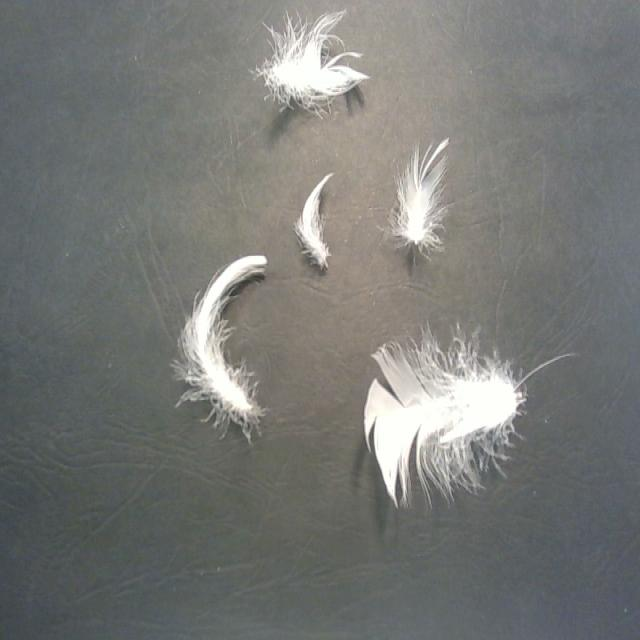feather: (359, 310, 543, 510), (170, 249, 271, 439), (250, 3, 367, 112), (379, 132, 461, 261), (291, 162, 335, 274)
